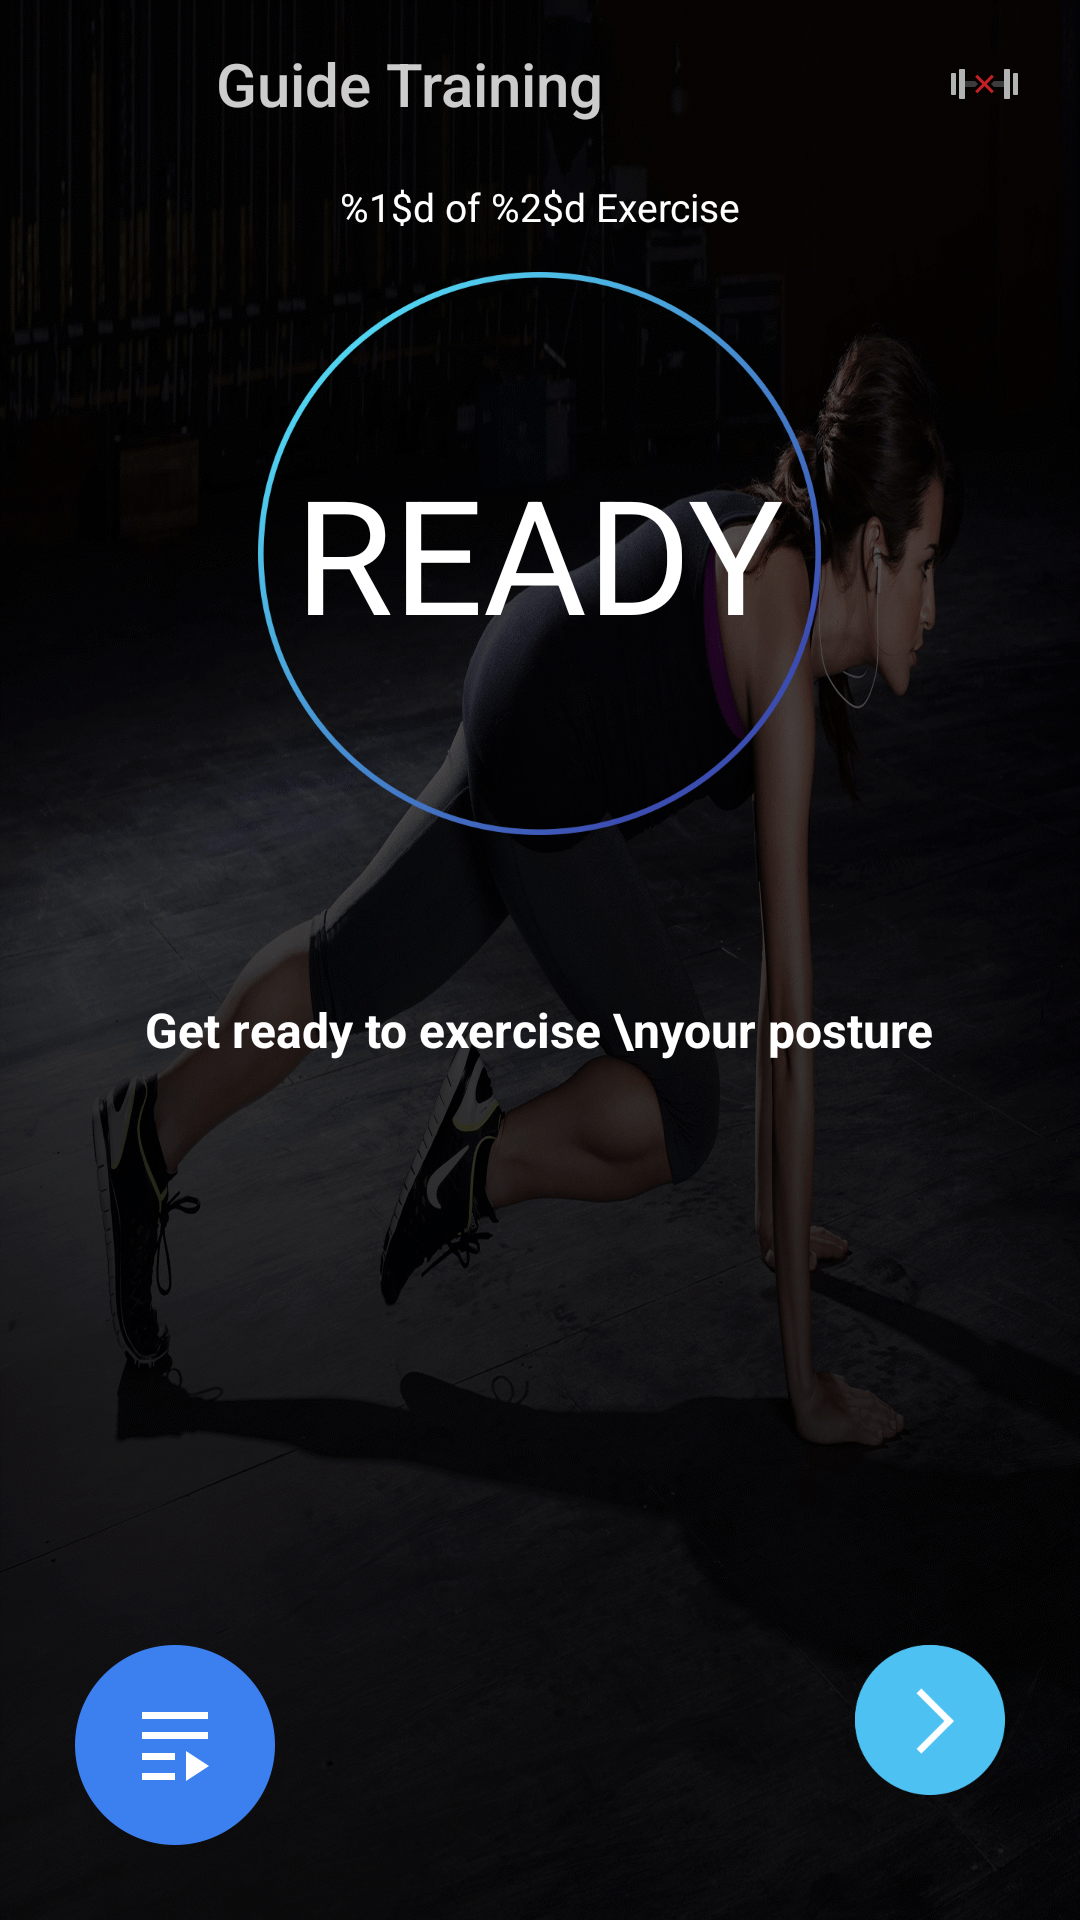

Icon click points for this 1080x1920 phone screenshot, format (x=x, y=y):
title connect no: (x=984, y=84)
